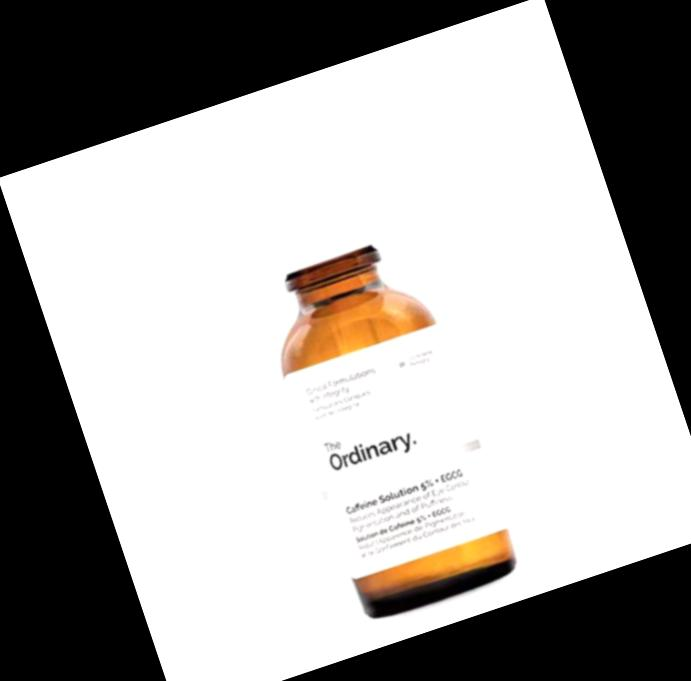cosmetic: (199, 82, 523, 622)
